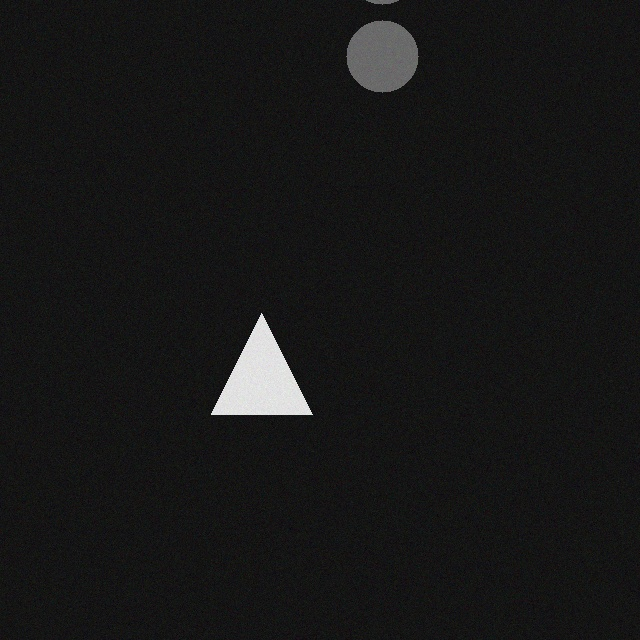circle: (341, 8, 413, 80)
triangle: (206, 301, 307, 402)
